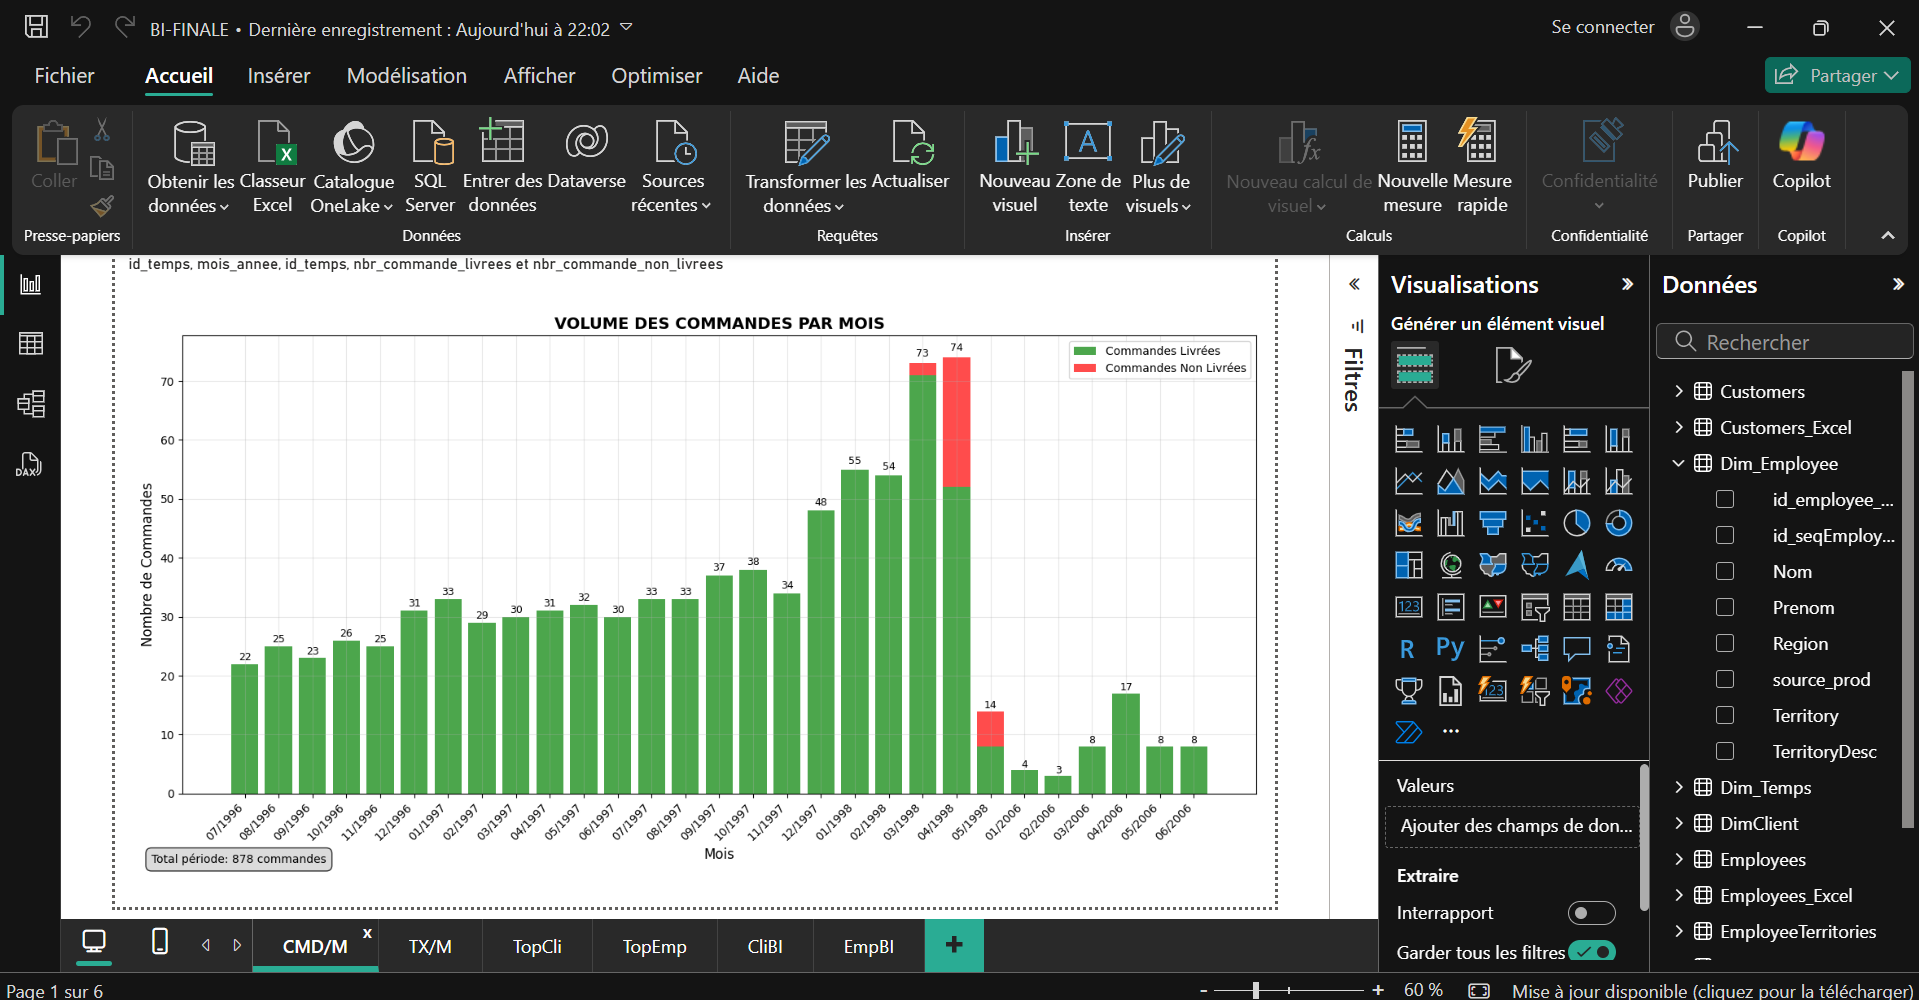

What the dashboard file says about the page in this screenshot:
{"tool":"powerbi","page":{"name":"CMD/M","canvas":[1280,720],"ordinal":0},"visuals":[{"type":"pythonVisual","fields":{"Values":["Dim_Temps.id_temps","Dim_Temps.mois_annee","TF_Commande.id_temps","TF_Commande.nbr_commande_livrees","TF_Commande.nbr_commande_non_livrees"]},"box":[10.1,0,1269,718.9],"z":0}]}

Visuals, with their boxes on the page's 1280x720 design canvas (x1, y1, x2, y2). These are canvas units, not pixel positions in the 1919x1000 screenshot, which may show the page scaled, cropped or inside an application window:
pythonVisual - Dim_Temps.id_temps x Dim_Temps.mois_annee: pyautogui.locateOnScreen(10, 0, 1279, 719)
